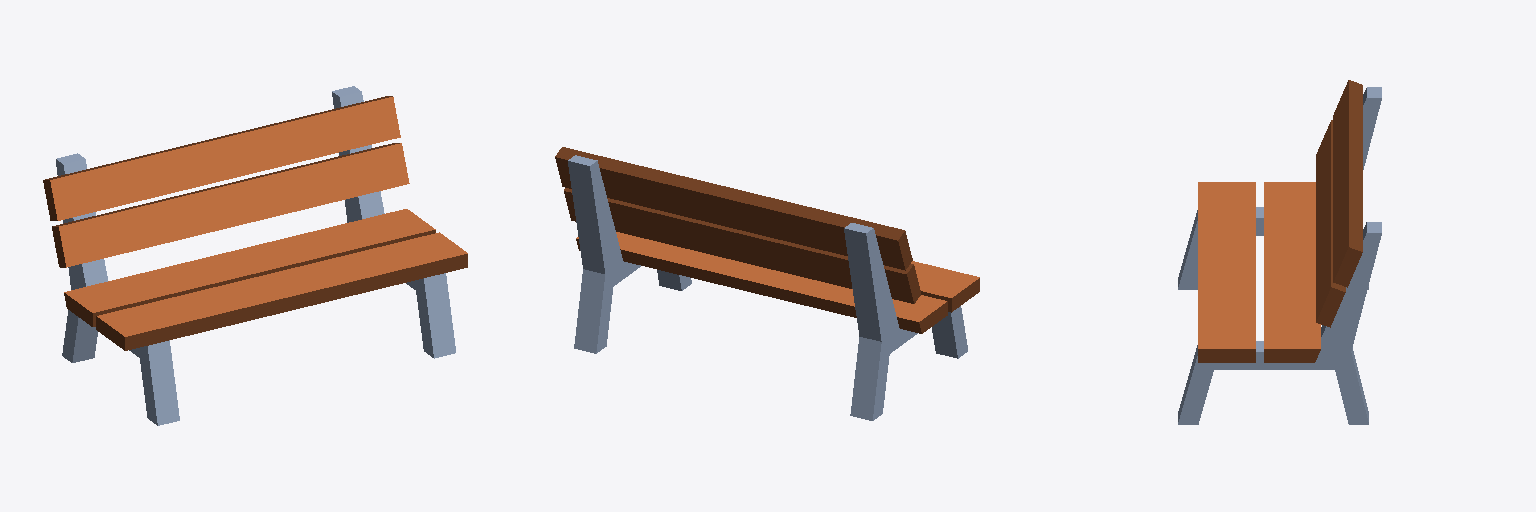
File: bench.obj
3 renders of one model, left to right at view 1: azimuth 30°, elevation 25°; view 2: azimuth 150°, elevation 25°; view 3: azimuth 270°, elevation 25°, orthographic.
Parts seen in each view (by area): view 1: bench; view 2: bench; view 3: bench.
Part boxes in pixels (x1,y1,x2,y2): bench: (43, 86, 467, 425); bench: (555, 147, 979, 420); bench: (1178, 80, 1381, 424).
Size of the model in its own units: 0.606 by 0.3248 by 0.3129.